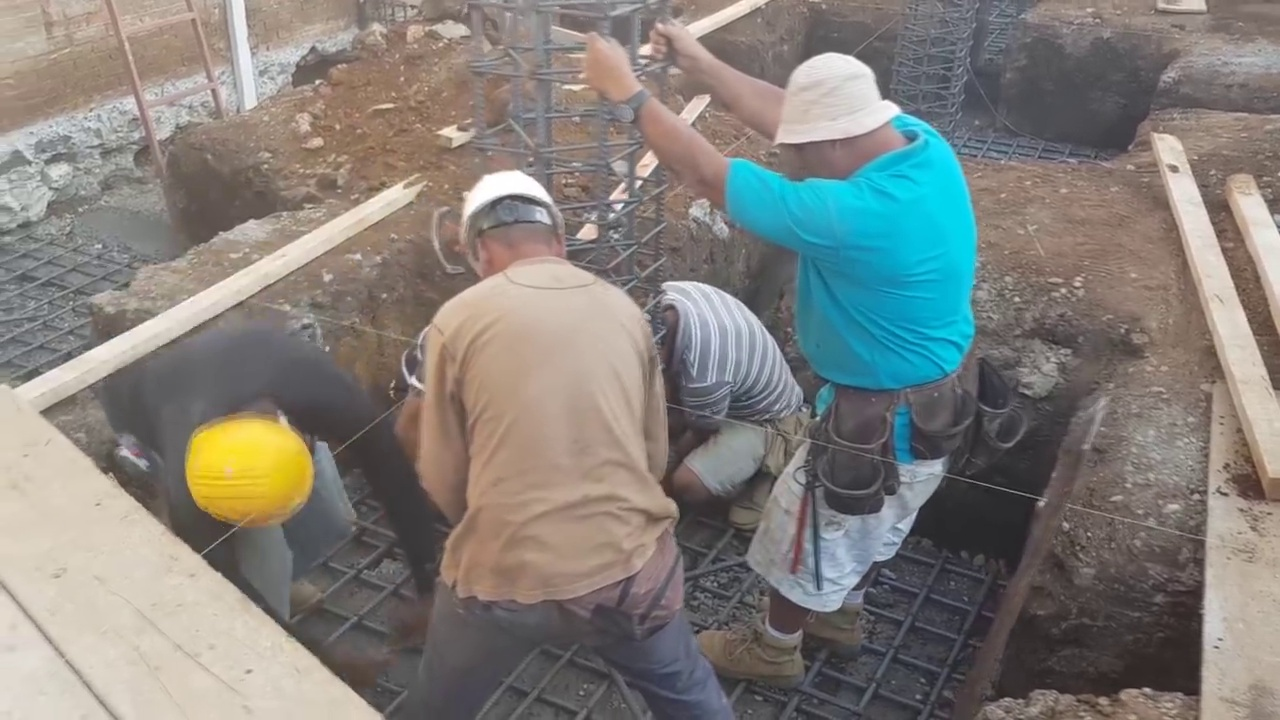helmet: (183, 410, 315, 533), (457, 167, 567, 246)
helmet-off: (776, 48, 925, 186)
helmet-on: (183, 392, 316, 536), (456, 167, 570, 276)
person: (583, 21, 978, 688), (406, 172, 734, 718), (98, 336, 440, 653), (658, 282, 804, 506)
